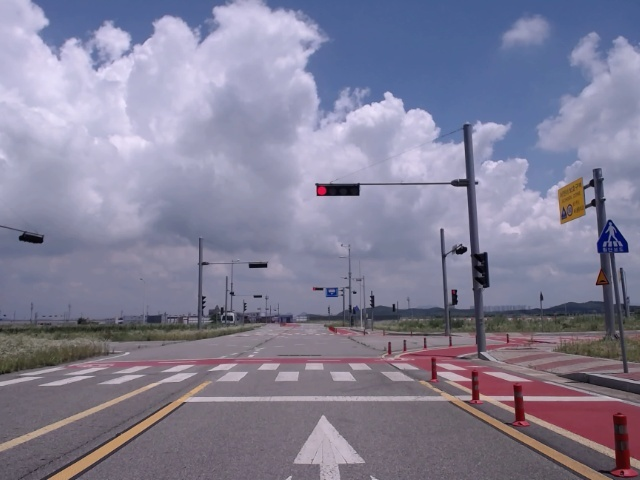red_4: (316, 185, 360, 196)
